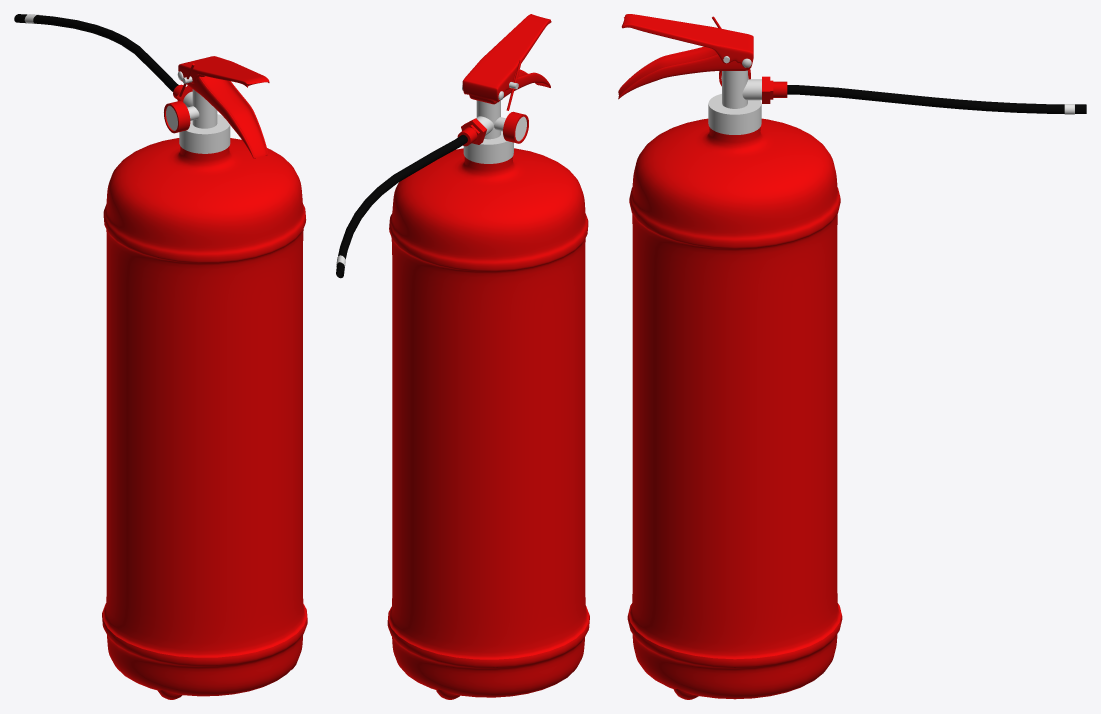
Rendered from Огнетушитель.fbx.
3 views of the same model, side by side, from view 1: azimuth 30°, elevation 25°; view 2: azimuth 150°, elevation 25°; view 3: azimuth 270°, elevation 25° (orthographic). The views are drawn at different scales.
Visible parts, largest first — view 1: base, handle_bottom, hose, handle_top, cap, steel_pipe, frame; view 2: base, handle_top, hose, cap, steel_pipe, handle_bottom, frame; view 3: base, hose, handle_top, handle_bottom, cap, steel_pipe.
Part boxes in pixels (x1,y1,x2,y2): base: [102, 138, 307, 696]; handle_bottom: [187, 76, 267, 158]; hose: [14, 14, 178, 91]; handle_top: [178, 56, 269, 87]; cap: [179, 114, 230, 153]; steel_pipe: [183, 89, 217, 128]; frame: [164, 101, 190, 133]; base: [387, 148, 589, 697]; handle_top: [462, 14, 551, 102]; hose: [336, 134, 467, 278]; cap: [463, 131, 513, 163]; steel_pipe: [476, 100, 505, 139]; handle_bottom: [469, 69, 550, 104]; frame: [503, 111, 528, 143]; base: [627, 118, 842, 699]; hose: [787, 85, 1086, 113]; handle_top: [621, 14, 753, 68]; handle_bottom: [618, 46, 748, 99]; cap: [708, 94, 761, 134]; steel_pipe: [722, 70, 761, 108].
Bounding box in the file's own units: 13.34 × 44.65 × 29.11.
